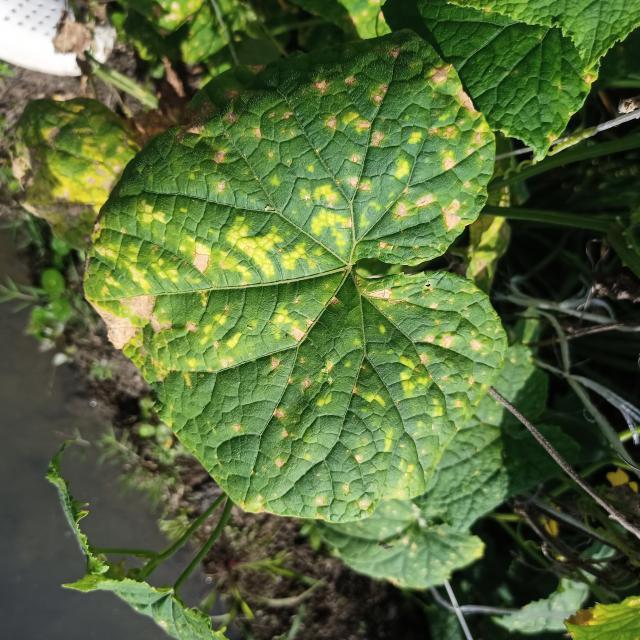disease_cucumber: (91, 41, 520, 495)
